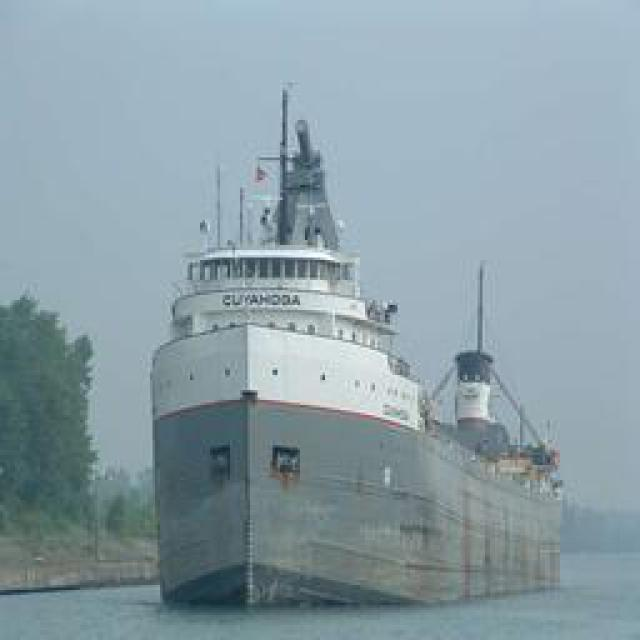Ship: (163, 80, 551, 595)
